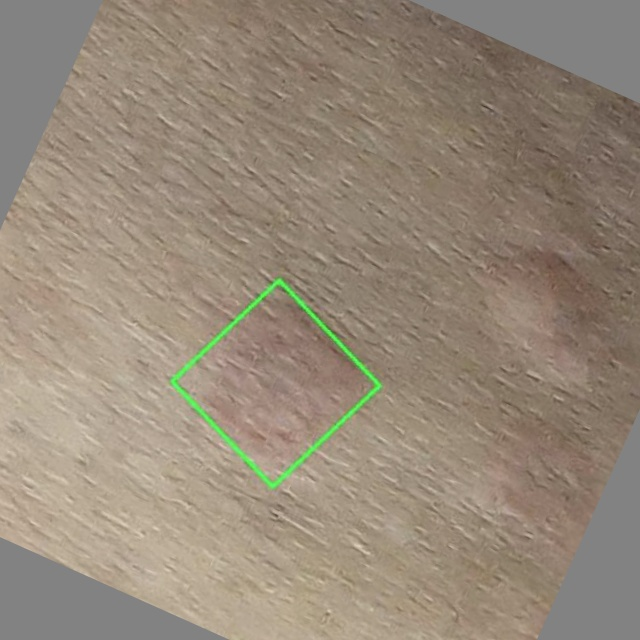Tinea Corporis: (172, 279, 379, 486)
